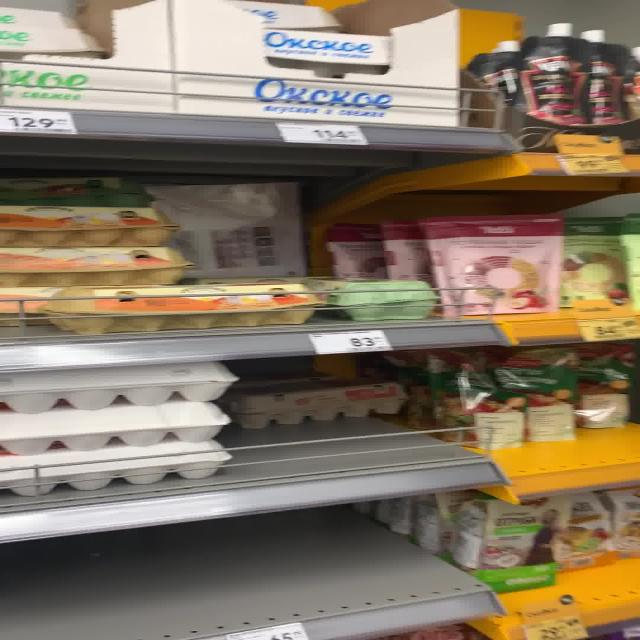egg box: (190, 5, 421, 77), (412, 218, 559, 312), (507, 16, 592, 151), (424, 356, 530, 463), (540, 217, 632, 306), (448, 498, 543, 574), (548, 503, 625, 573)
